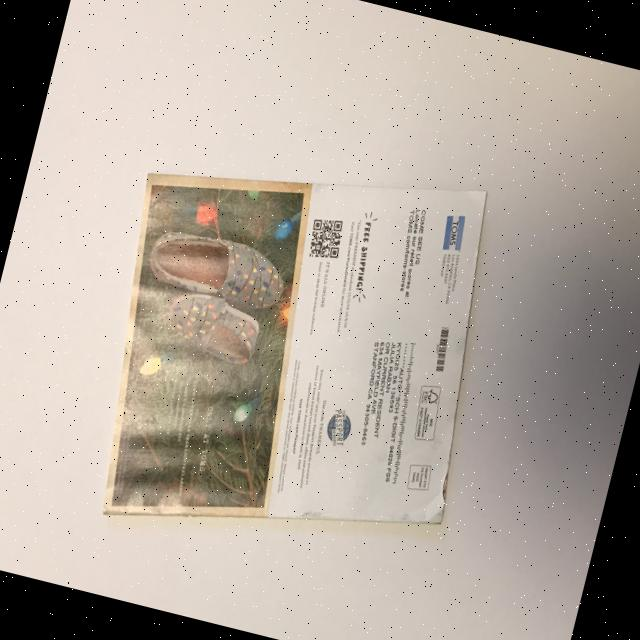paper: (64, 110, 522, 593)
